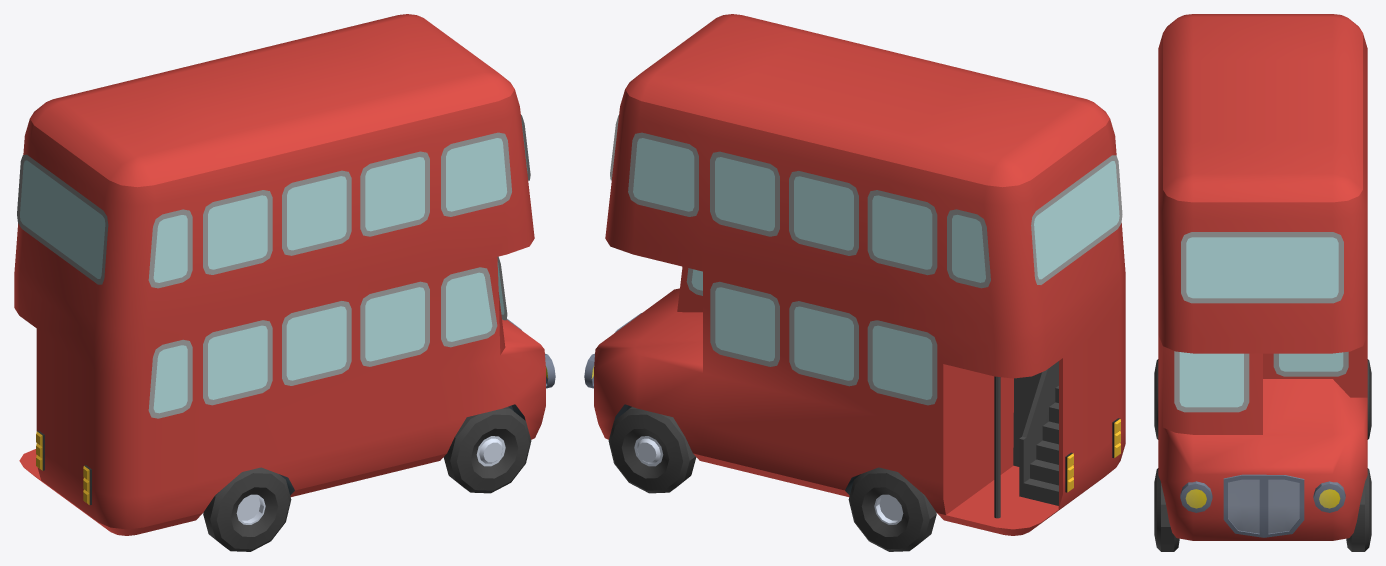
File: bus.fbx
The picture shows the model from 3 angles, left to right: view 1: azimuth 30°, elevation 25°; view 2: azimuth 150°, elevation 25°; view 3: azimuth 270°, elevation 25°; orthographic projection. The views are drawn at different scales.
Parts seen in each view (by area): view 1: bus; view 2: bus; view 3: bus.
Boxes of the visible parts, bbox=[...] form: bus: bbox=[14, 14, 555, 551]; bus: bbox=[584, 14, 1125, 551]; bus: bbox=[1154, 14, 1371, 551].
Bounding box in the file's own units: 550 × 464 × 242.
